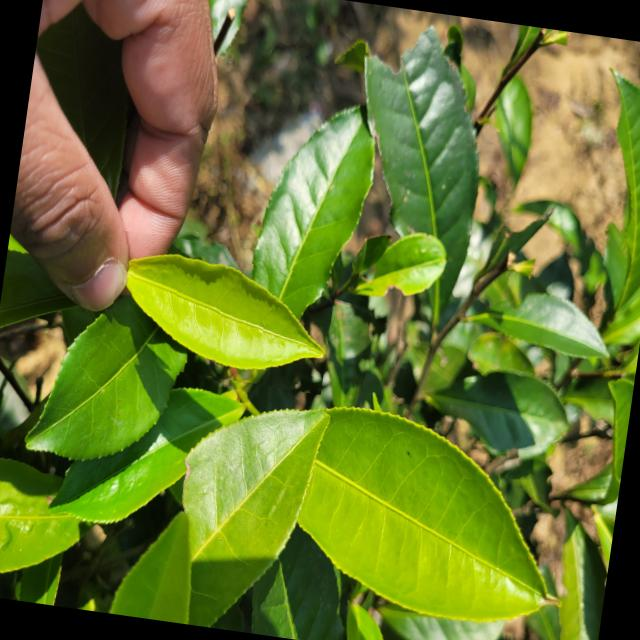Catagory A(1-2 days): (102, 230, 338, 394)
